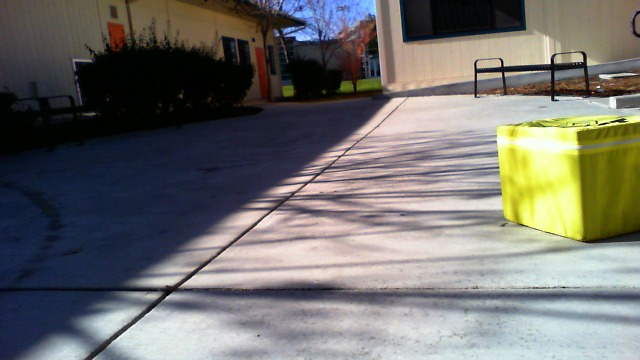cube: (489, 115, 639, 242)
